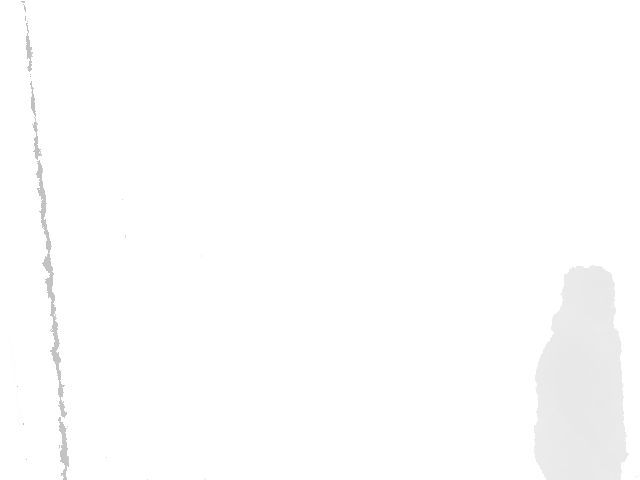head: (561, 267, 617, 333)
person: (535, 267, 629, 480)
